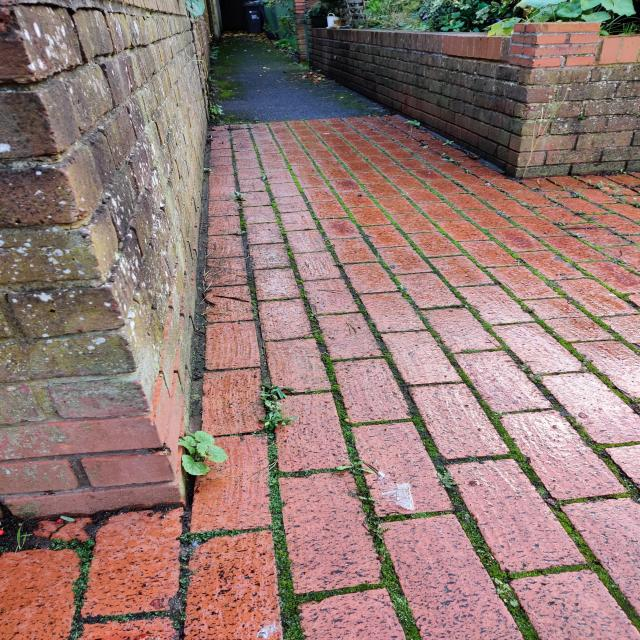litter: (375, 468, 416, 512)
